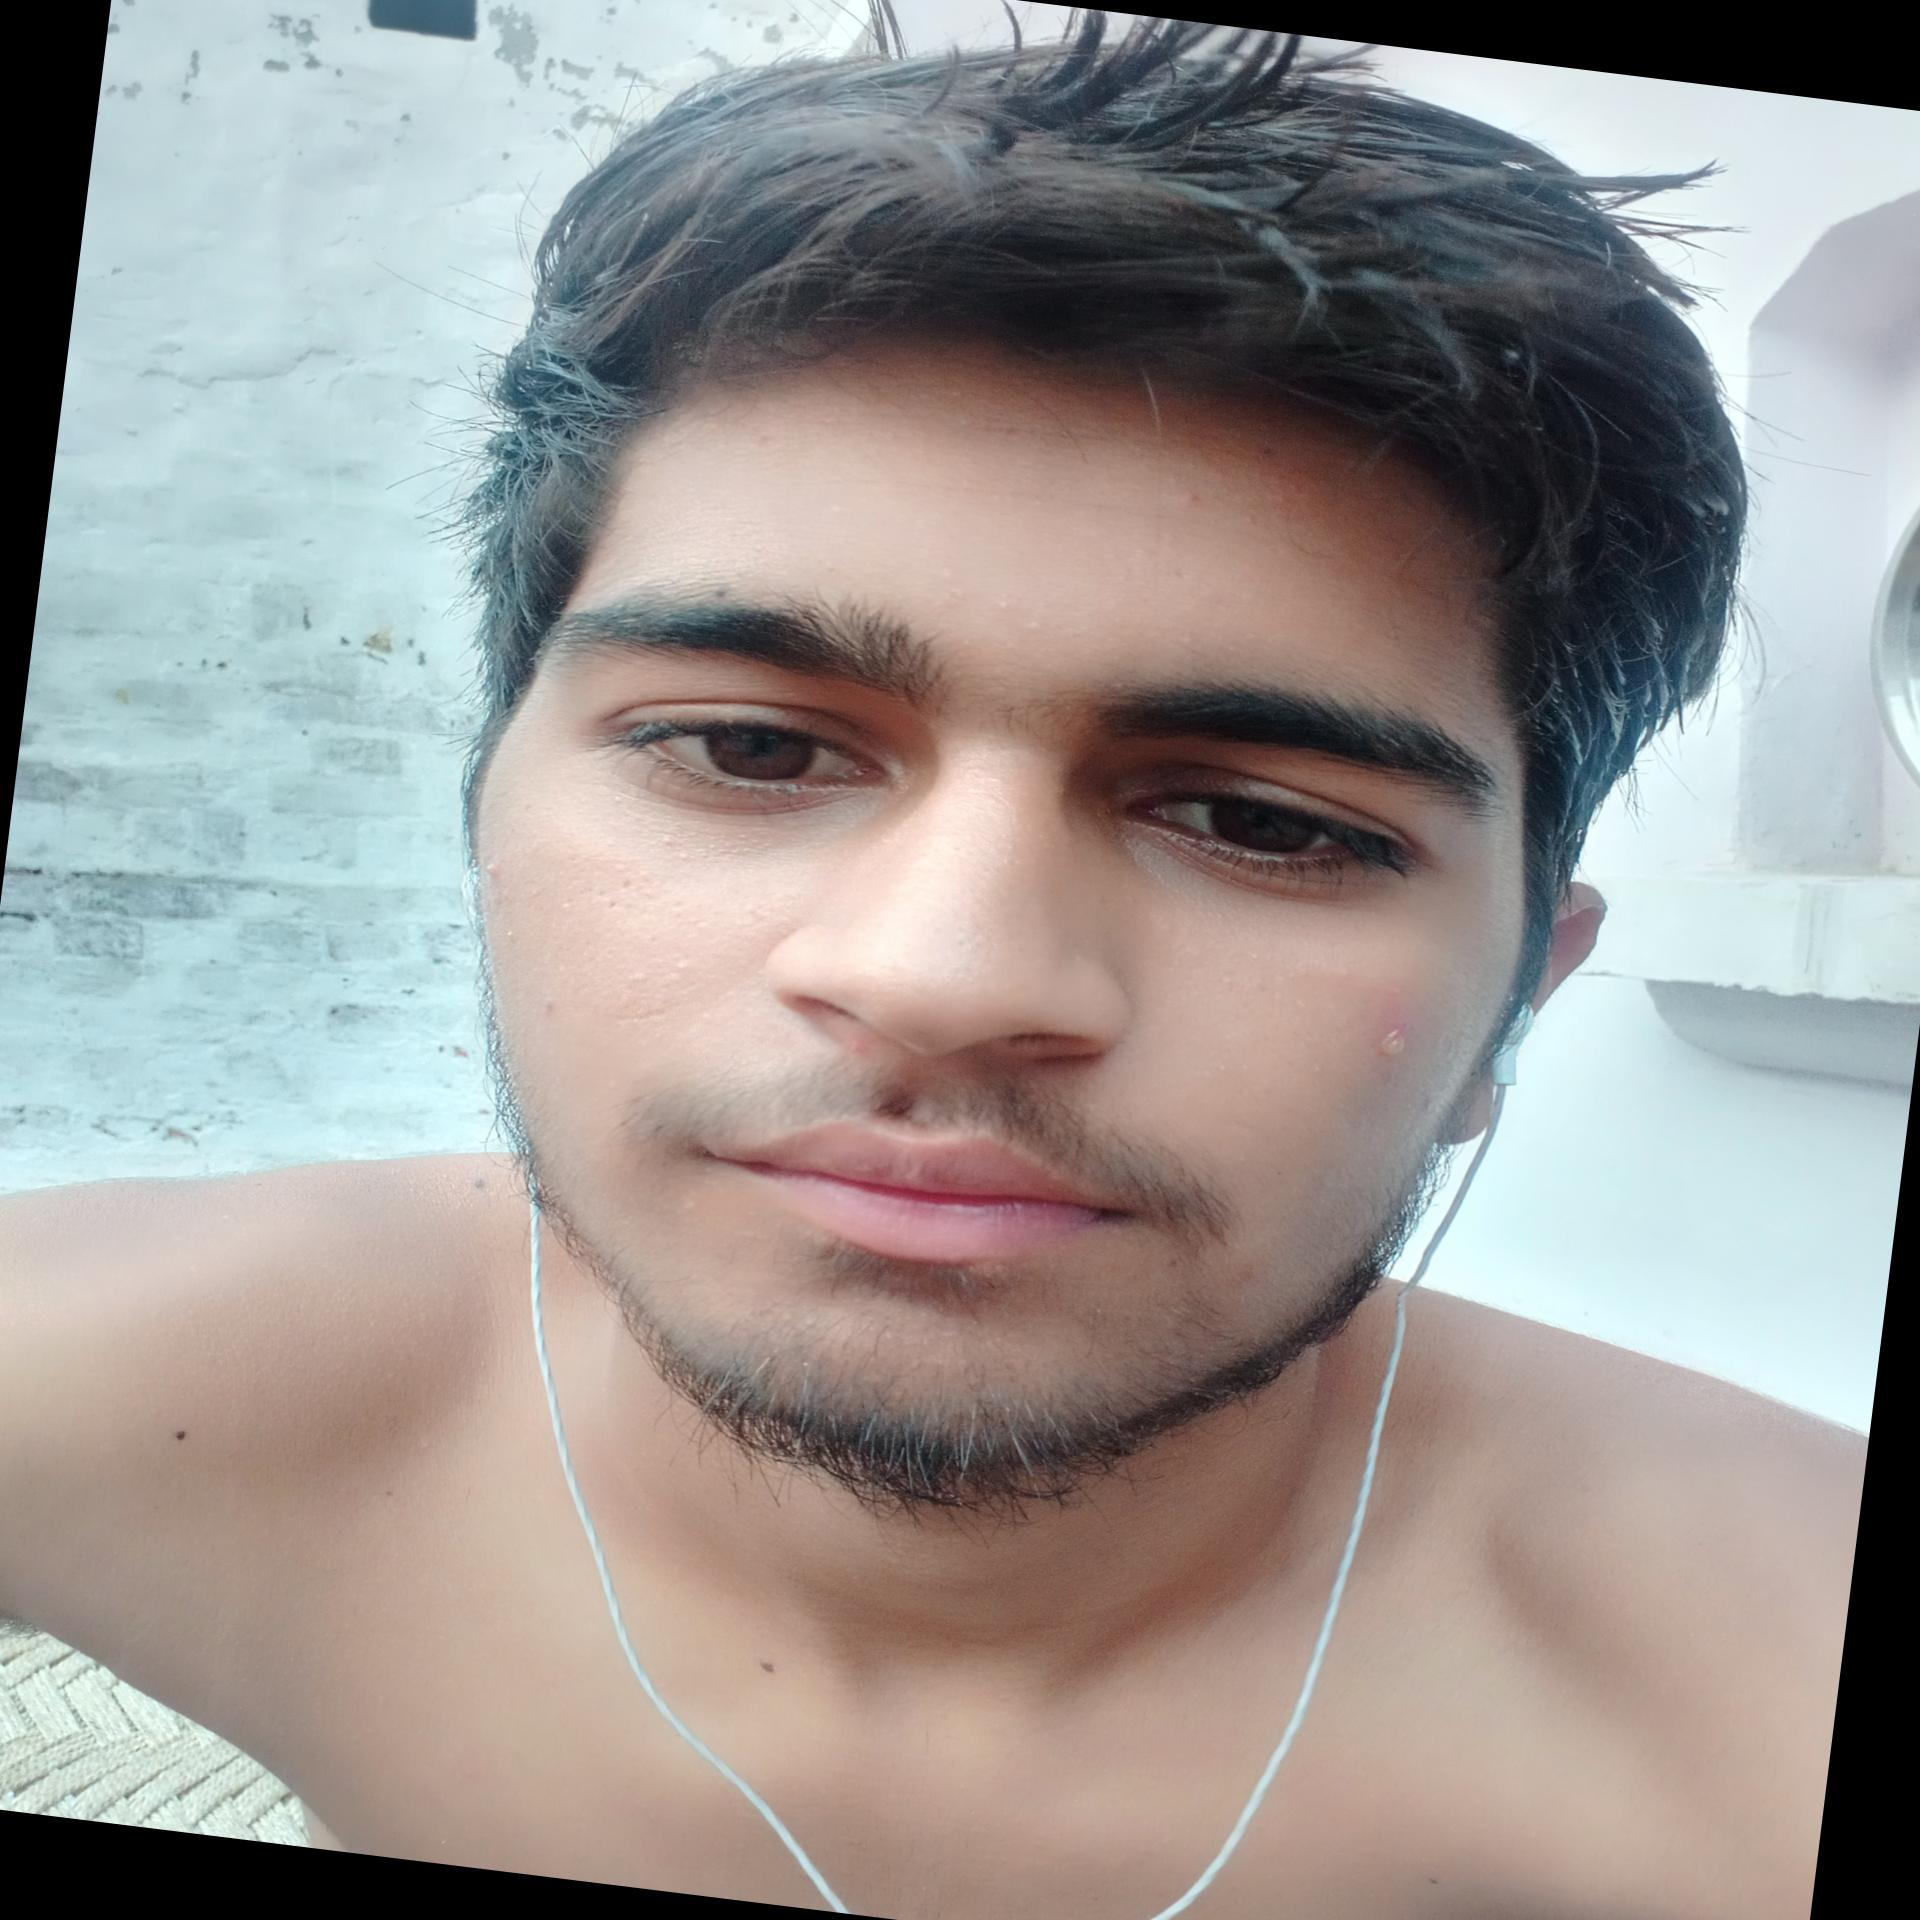Acne: (649, 825, 703, 870), (1217, 1257, 1262, 1296), (823, 1037, 890, 1064), (473, 847, 510, 893), (498, 923, 529, 953), (1185, 489, 1206, 505)
Dark Circles: (1361, 1011, 1421, 1069)
Wrinkles: (856, 397, 1241, 469), (832, 462, 1176, 527)
